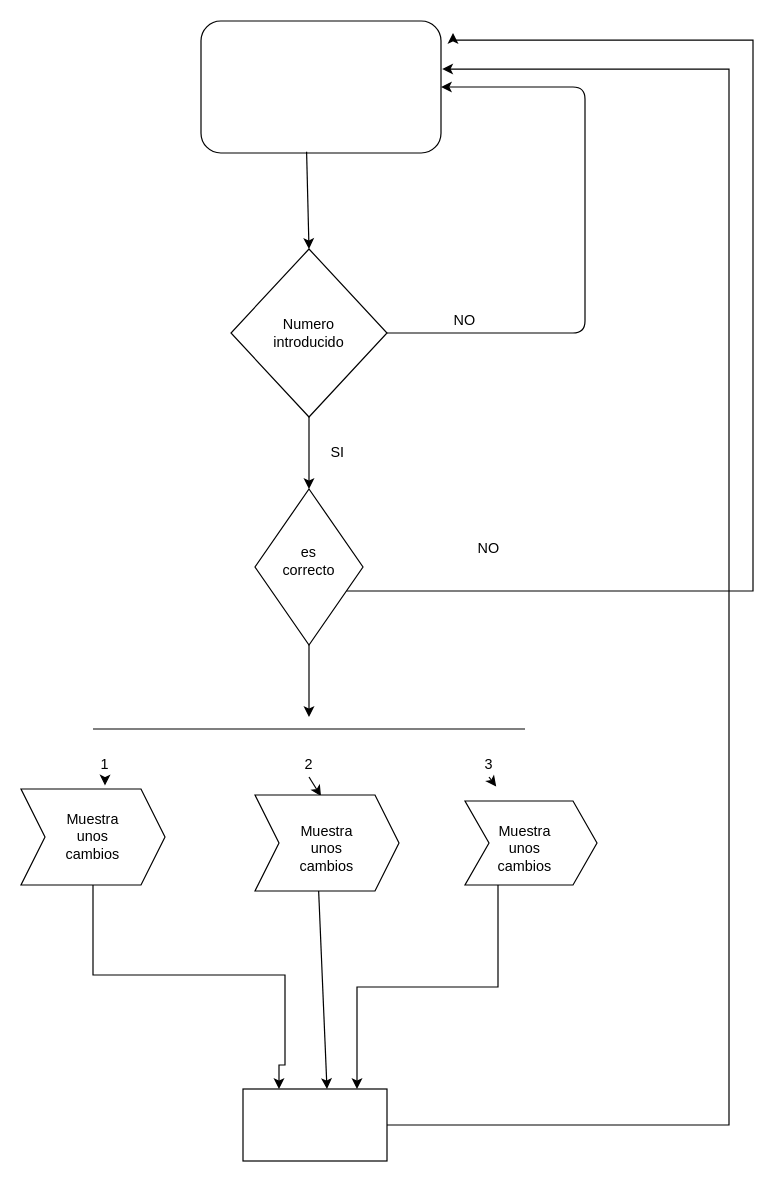
Image size: 784x1182. Some labels were removed from this diagram. Here are the shapes that lost their labels. From the top down, the centre of each, then its label:
(320,86): Elige en tre 1-2-3
(314,1124): reestablecer
